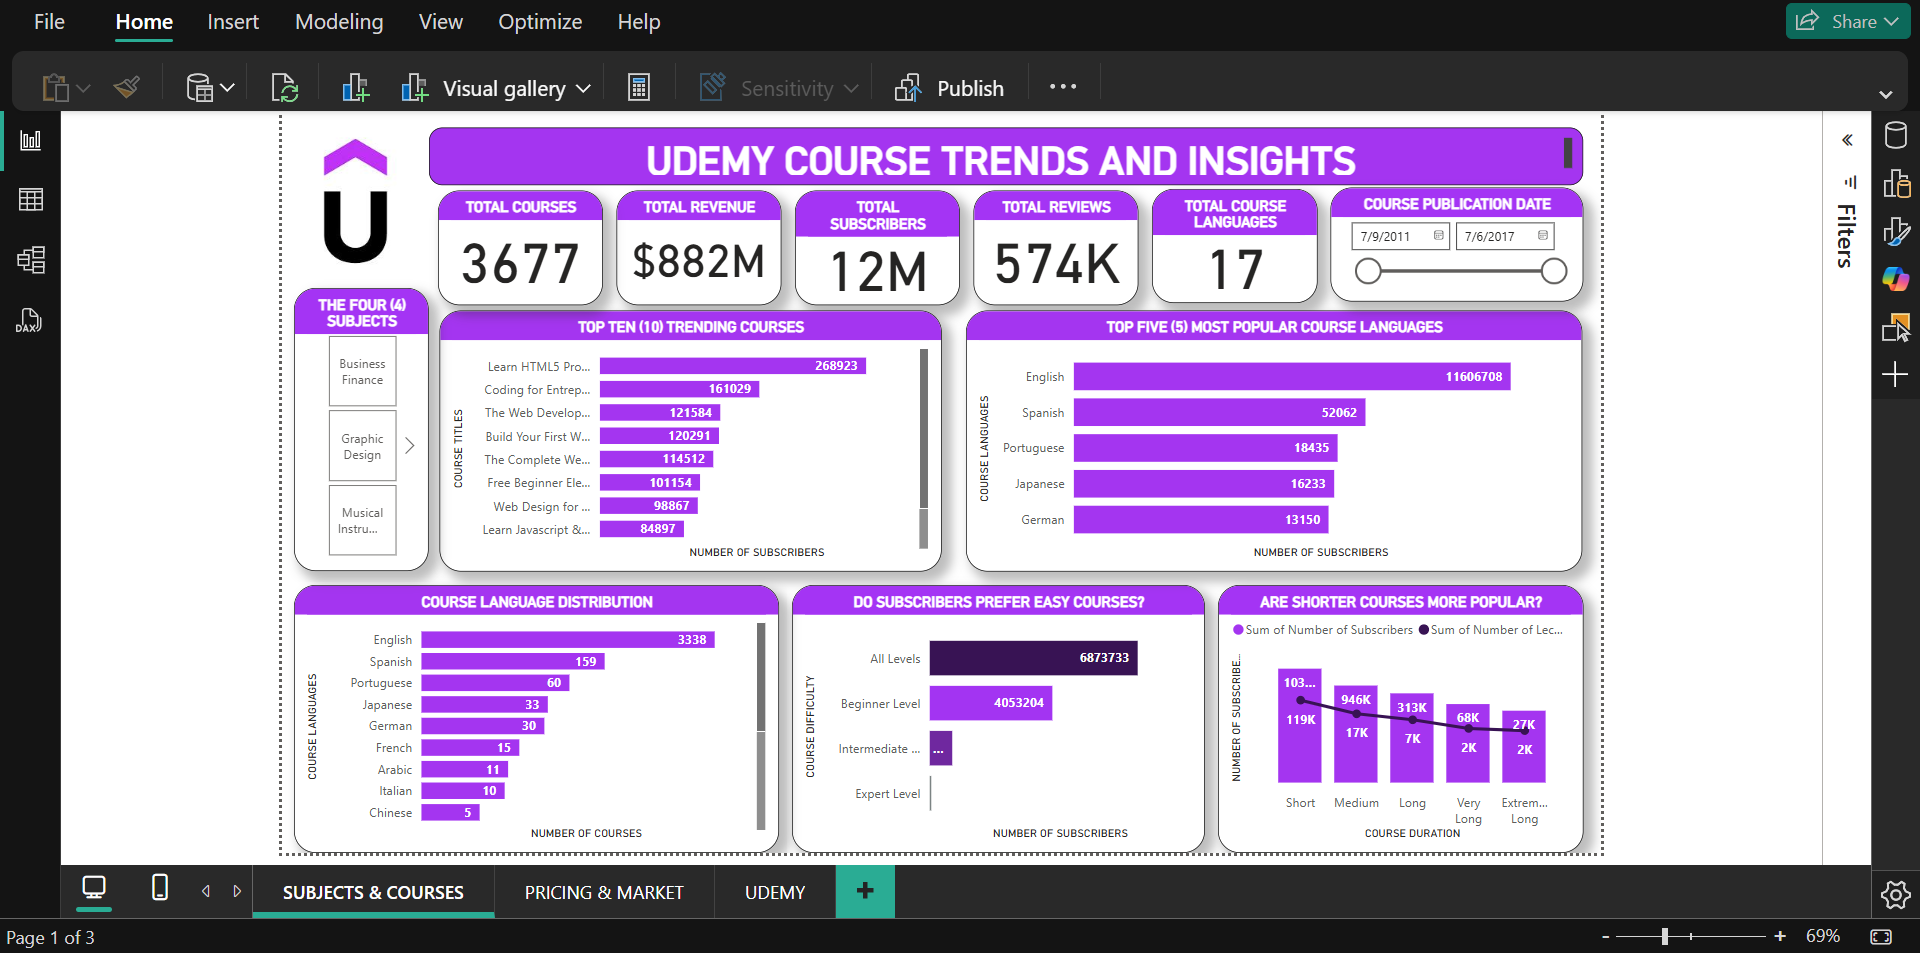

This screenshot's page, from the dashboard's own definition file:
{"tool":"powerbi","page":{"name":"SUBJECTS & COURSES","canvas":[1280,720],"ordinal":0},"visuals":[{"type":"card","title":"TOTAL REVENUE","fields":{"Values":["Udemy Courses - cleaned.Total Revenue"]},"box":[324.8,77,160,111.4],"z":0},{"type":"textbox","box":[142.5,16.6,1119.8,56.3],"z":1000,"group":"g1"},{"type":"card","title":"TOTAL SUBSCRIBERS","fields":{"Values":["Udemy Courses - cleaned.Number of Subscribers"]},"box":[497.7,77,160,111.4],"z":1000},{"type":"card","title":"TOTAL REVIEWS","fields":{"Values":["Udemy Courses - cleaned.Number of Reviews"]},"box":[670.6,77,160,111.4],"z":2000},{"type":"barChart","title":"TOP TEN (10) TRENDING COURSES","fields":{"Category":["Udemy Courses - cleaned.Course Title"],"Y":["Udemy Courses - cleaned.Number of Subscribers"]},"box":[152.4,193.8,487,253.4],"z":2000,"group":"g1"},{"type":"card","title":"TOTAL COURSE LANGUAGES","fields":{"Values":["Udemy Courses - cleaned.Course Language"]},"box":[843.5,76.2,160.7,111],"z":3000},{"type":"barChart","title":"DO SUBSCRIBERS PREFER EASY COURSES?","fields":{"Category":["Udemy Courses - cleaned.Course Difficulty"],"Y":["Udemy Courses - cleaned.Number of Subscribers"]},"box":[495.3,460.5,400.9,260.1],"z":3000,"group":"g1"},{"type":"group","id":"g1","title":"Group 1","box":[0,3.3,1262.2,717.3],"z":4000},{"type":"barChart","title":"TOP FIVE (5) MOST POPULAR COURSE LANGUAGES","fields":{"Category":["Udemy Courses - cleaned.Course Language"],"Y":["Udemy Courses - cleaned.Number of Subscribers"]},"box":[664.2,193.8,598,253.4],"z":4000,"group":"g1"},{"type":"lineStackedColumnComboChart","title":"ARE SHORTER COURSES MORE POPULAR?","fields":{"Category":["Udemy Courses - cleaned.Course Duration - Groupings"],"Y":["Udemy Courses - cleaned.Number of Subscribers"],"Y2":["Udemy Courses - cleaned.Number of Lectures"]},"box":[907.8,460.5,354.5,260.1],"z":5000,"group":"g1"},{"type":"barChart","title":"COURSE LANGUAGE DISTRIBUTION","fields":{"Category":["Udemy Courses - cleaned.Course Language"],"Y":["Udemy Courses - cleaned.Course ID"]},"box":[11.6,460.5,470.4,260.1],"z":6000,"group":"g1"},{"type":"slicer","title":"COURSE PUBLICATION DATE","fields":{"Values":["Udemy Courses - cleaned.Date Published"]},"box":[1017.1,74,245.2,111],"z":7000,"group":"g1"},{"type":"card","title":"TOTAL COURSES","fields":{"Values":["Udemy Courses - cleaned.Course ID"]},"box":[151.9,77.6,160,111.4],"z":8000,"group":"g1"},{"type":"slicer","title":"THE FOUR (4) SUBJECTS","fields":{"Values":["Udemy Courses - cleaned.Course Subject"]},"box":[11.6,172.3,130.9,275],"z":12000,"group":"g1"},{"type":"image","box":[0,3.3,142.5,169],"z":13000,"group":"g1"}]}

Visuals, with their boxes on the page's 1280x720 design canvas (x1, y1, x2, y2). These are canvas units, not pixel positions in the 1920x953 screenshot, which may show the page scaled, cropped or inside an application window:
"TOTAL REVENUE" card: locate(325, 77, 485, 188)
textbox: locate(142, 17, 1262, 73)
"TOTAL SUBSCRIBERS" card: locate(498, 77, 658, 188)
"TOTAL REVIEWS" card: locate(671, 77, 831, 188)
"TOP TEN (10) TRENDING COURSES" barChart: locate(152, 194, 639, 447)
"TOTAL COURSE LANGUAGES" card: locate(844, 76, 1004, 187)
"DO SUBSCRIBERS PREFER EASY COURSES?" barChart: locate(495, 460, 896, 721)
"Group 1" group: locate(0, 3, 1262, 721)
"TOP FIVE (5) MOST POPULAR COURSE LANGUAGES" barChart: locate(664, 194, 1262, 447)
"ARE SHORTER COURSES MORE POPULAR?" lineStackedColumnComboChart: locate(908, 460, 1262, 721)
"COURSE LANGUAGE DISTRIBUTION" barChart: locate(12, 460, 482, 721)
"COURSE PUBLICATION DATE" slicer: locate(1017, 74, 1262, 185)
"TOTAL COURSES" card: locate(152, 78, 312, 189)
"THE FOUR (4) SUBJECTS" slicer: locate(12, 172, 142, 447)
image: locate(0, 3, 142, 172)
